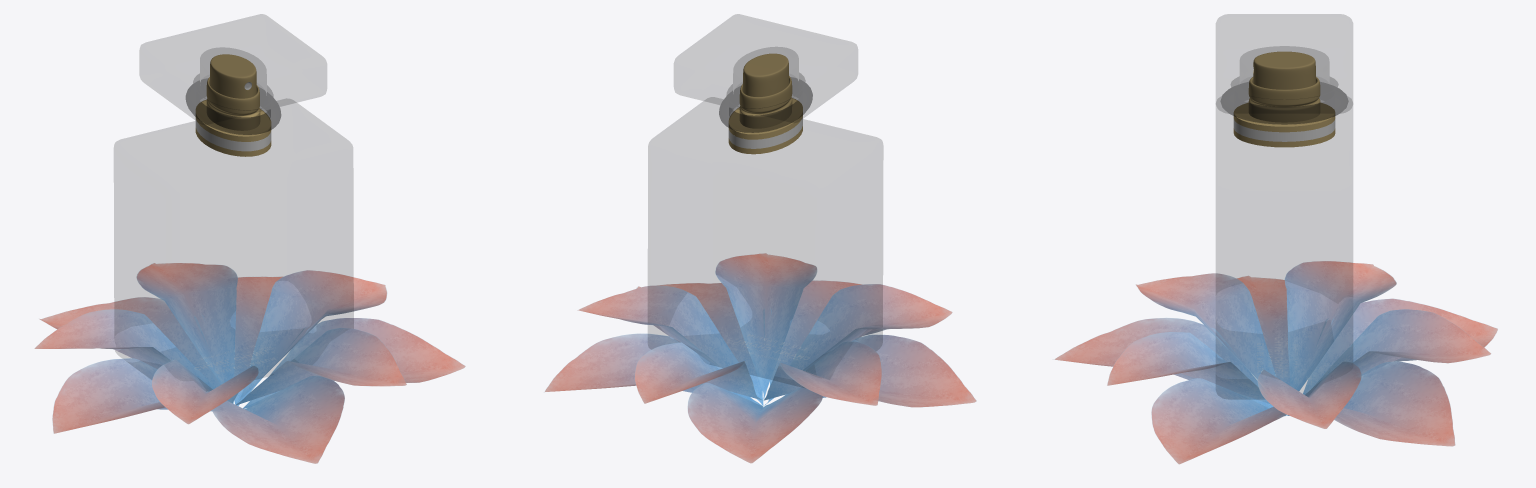
File: perfume-.glb
3 renders of one model, left to right at view 1: azimuth 30°, elevation 25°; view 2: azimuth 150°, elevation 25°; view 3: azimuth 270°, elevation 25°, orthographic. The views are drawn at different scales.
Visible parts, largest first — view 1: Object_10, Object_9, pPlane4, pPlane9, pPlane8, pPlane3, pPlane7, pPlane10, pPlane5, pPlane6, pPlane2, pPlane1 (+5 smaller); view 2: Object_10, Object_9, pPlane7, pPlane2, pPlane6, pPlane8, pPlane3, pPlane10, pPlane9, pPlane1, pPlane5, pPlane4 (+5 smaller); view 3: Object_10, Object_9, pPlane10, pPlane1, pPlane5, pPlane6, pPlane9, pPlane7, pPlane4, pPlane8, pPlane2, Object_13 (+5 smaller).
Boxes of the visible parts, x1,y1,x2,y2 form: Object_10: (114, 99, 353, 390); Object_9: (140, 14, 326, 124); pPlane4: (212, 375, 344, 463); pPlane9: (136, 263, 237, 403); pPlane8: (235, 270, 387, 404); pPlane3: (52, 358, 213, 433); pPlane7: (236, 328, 406, 405); pPlane10: (34, 309, 215, 389); pPlane5: (243, 318, 465, 408); pPlane6: (151, 359, 258, 424); pPlane2: (39, 297, 220, 387); pPlane1: (202, 276, 325, 405); Object_10: (648, 97, 882, 387); Object_9: (674, 14, 857, 122); pPlane7: (715, 253, 817, 399); pPlane2: (687, 383, 822, 463); pPlane6: (790, 284, 952, 370); pPlane8: (577, 285, 762, 399); pPlane3: (764, 334, 976, 407); pPlane10: (764, 341, 881, 405); pPlane9: (634, 342, 762, 403); pPlane1: (544, 333, 762, 405); pPlane5: (636, 283, 764, 405); pPlane4: (764, 280, 886, 405); Object_10: (1216, 97, 1352, 398); Object_9: (1216, 14, 1352, 112); pPlane10: (1284, 261, 1396, 390); pPlane1: (1287, 361, 1455, 446); pPlane5: (1151, 378, 1286, 464); pPlane6: (1136, 273, 1275, 379); pPlane9: (1313, 309, 1490, 387); pPlane7: (1107, 332, 1270, 404); pPlane4: (1053, 318, 1286, 415); pPlane8: (1257, 361, 1361, 428); pPlane2: (1303, 298, 1497, 394); Object_13: (1220, 76, 1348, 124).
Size of what is drawn, in the model's own units: 1.61 by 1.34 by 1.62.
6 materials, 2 textured.
